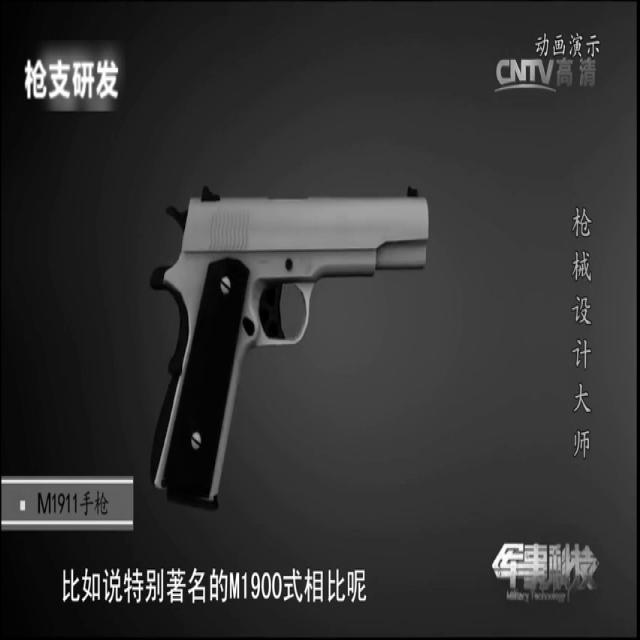Hand-Gun: (79, 178, 464, 527)
